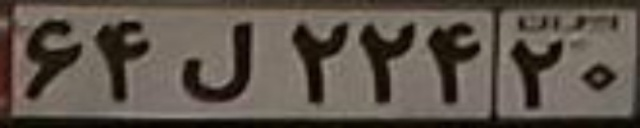0: (577, 61, 623, 91)
2: (354, 23, 420, 103), (291, 23, 344, 106), (508, 38, 567, 109)
4: (94, 21, 156, 102), (426, 22, 486, 103)
6: (24, 19, 81, 99)
lam: (174, 21, 262, 104)
